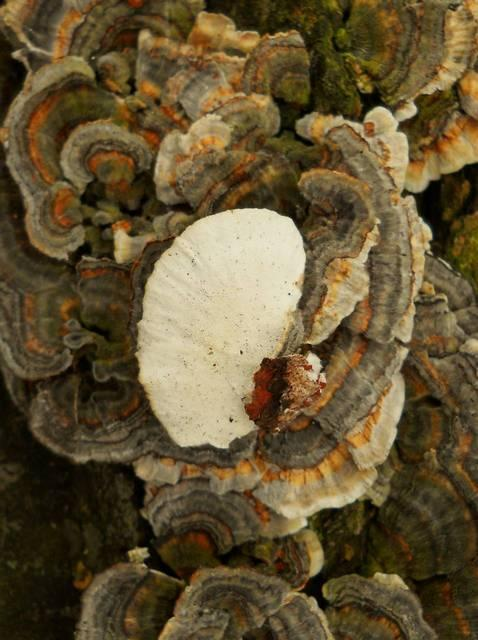poisonous_mushroom: (0, 0, 477, 564), (131, 205, 309, 452)
